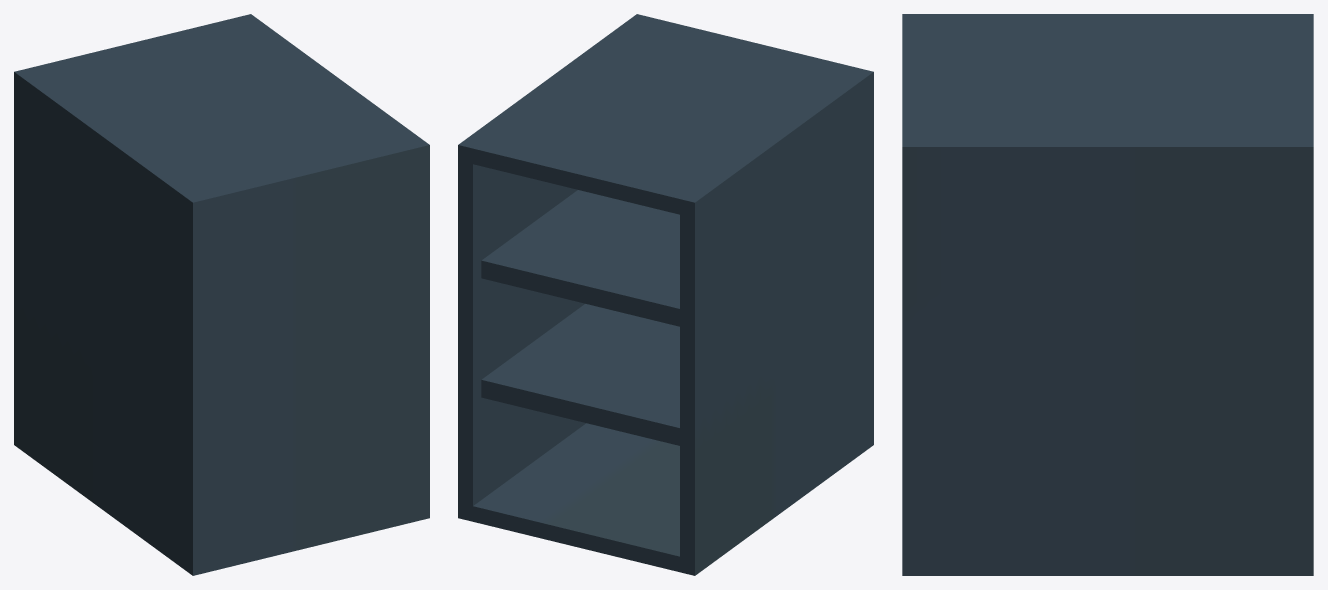
File: CabinetA07.glb
3 views of the same model, side by side, from view 1: azimuth 30°, elevation 25°; view 2: azimuth 150°, elevation 25°; view 3: azimuth 270°, elevation 25° (orthographic). The views are drawn at different scales.
Visible parts, largest first — view 1: CabinetA07_model; view 2: CabinetA07_model; view 3: CabinetA07_model.
Part boxes in pixels (x1,y1,x2,y2): CabinetA07_model: (14,14,429,575); CabinetA07_model: (458,14,873,575); CabinetA07_model: (902,14,1313,575).
Bounding box in the file's own units: 0.9201 × 1.39 × 1.2.
1 material, 1 textured.
